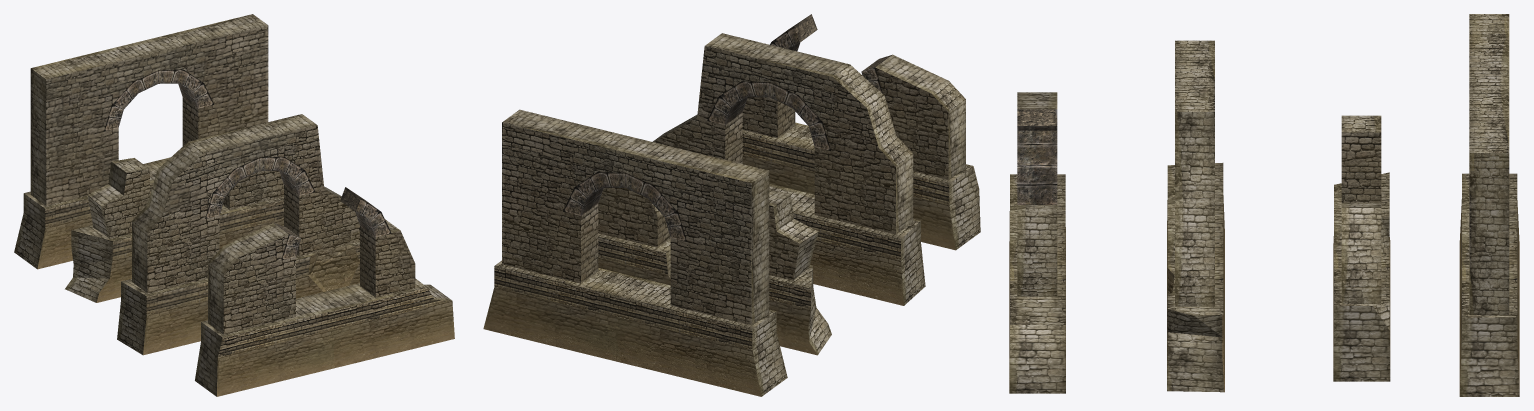
Rendered from ancient_ruins_03_02.FBX.
3 renders of one model, left to right at view 1: azimuth 30°, elevation 25°; view 2: azimuth 150°, elevation 25°; view 3: azimuth 270°, elevation 25°, orthographic. The views are drawn at different scales.
Parts seen in each view (by area): view 1: Object021, Object053, Object019, Object020; view 2: Object021, Object019, Object053, Object020; view 3: Object021, Object019, Object053, Object020.
Boxes of the visible parts, <box> form: Object021: <box>14,14,268,269</box>; Object053: <box>195,187,454,396</box>; Object019: <box>117,114,359,355</box>; Object020: <box>65,158,283,302</box>; Object021: <box>483,109,787,396</box>; Object019: <box>652,33,925,305</box>; Object053: <box>742,14,980,250</box>; Object020: <box>598,188,831,355</box>; Object021: <box>1459,14,1519,396</box>; Object019: <box>1167,40,1224,392</box>; Object053: <box>1009,92,1065,393</box>; Object020: <box>1333,115,1390,381</box>.
Bounding box in the file's own units: 2185 × 2902 × 1484.
Materials: 2 (2 with a texture image).
